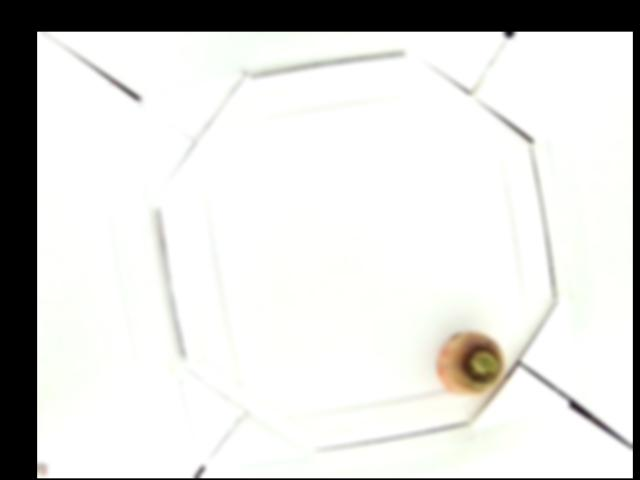Carrot: (437, 330, 503, 394)
